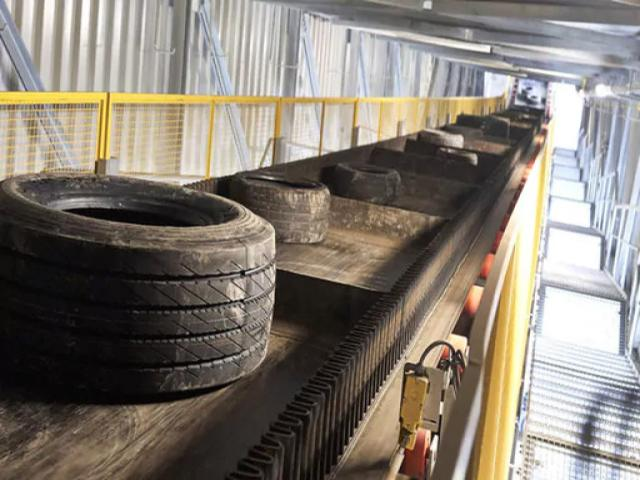conveyor: (1, 97, 551, 480)
